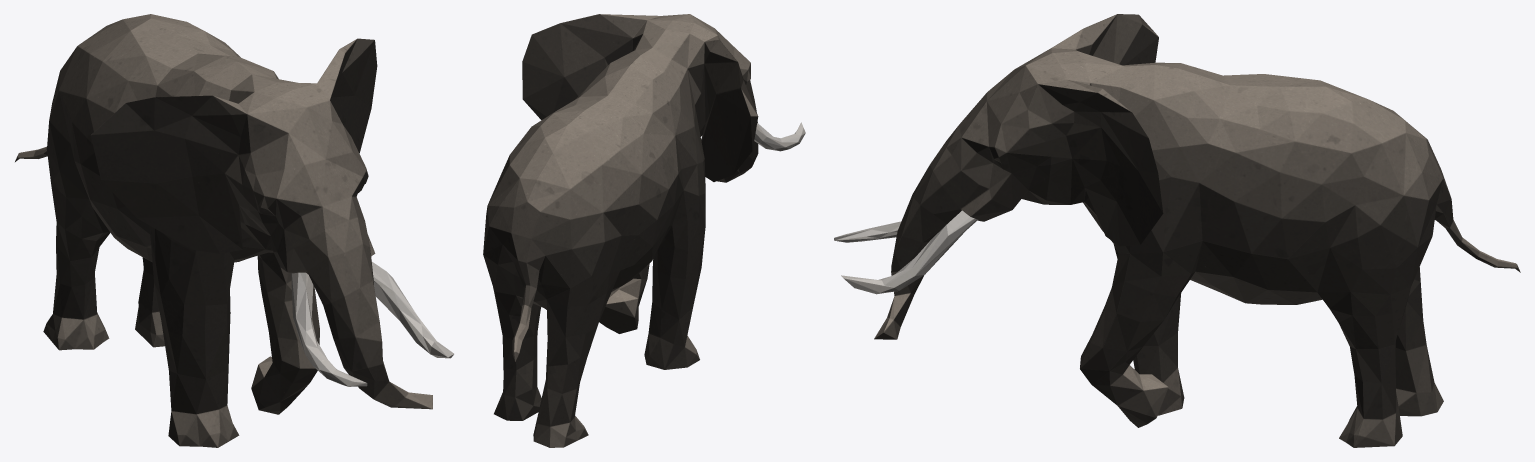
Rendered from Elephant - low poly.glb.
3 views of the same model, side by side, from view 1: azimuth 30°, elevation 25°; view 2: azimuth 150°, elevation 25°; view 3: azimuth 270°, elevation 25° (orthographic). The views are drawn at different scales.
Visible parts, largest first — view 1: elephant.1; view 2: elephant.1; view 3: elephant.1.
Part boxes in pixels (x1=…): elephant.1: x1=15, y1=14, x2=453, y2=447; elephant.1: x1=483, y1=14, x2=805, y2=447; elephant.1: x1=834, y1=14, x2=1520, y2=447.
Bounding box in the file's own units: 3.15 × 3.92 × 6.66.
1 material, 1 textured.
